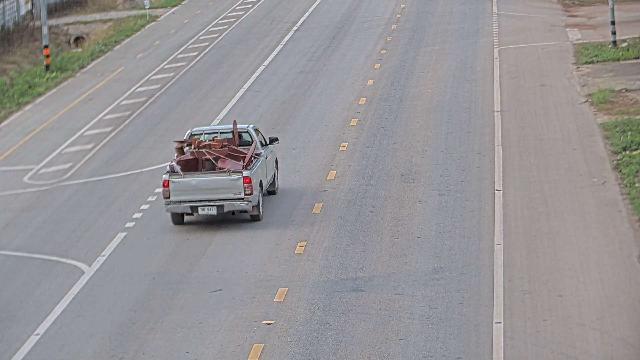pickup-truck: (161, 120, 280, 225)
